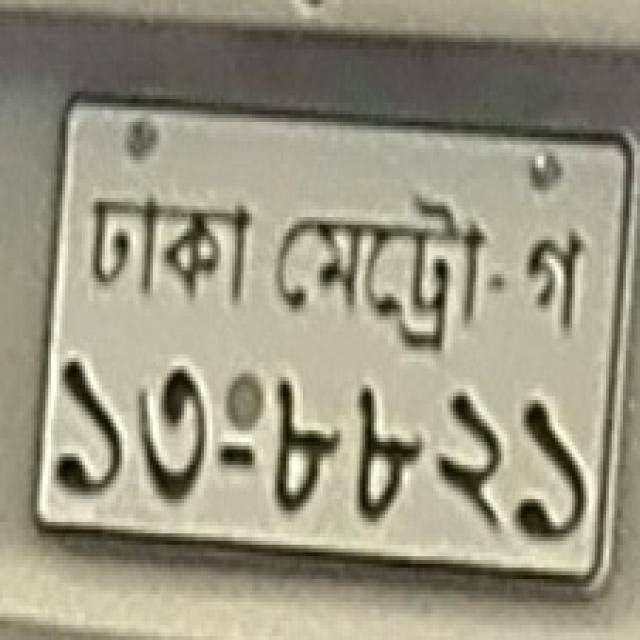numberplate: (33, 89, 630, 581)
